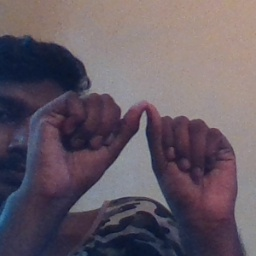A: (56, 87, 228, 192)
